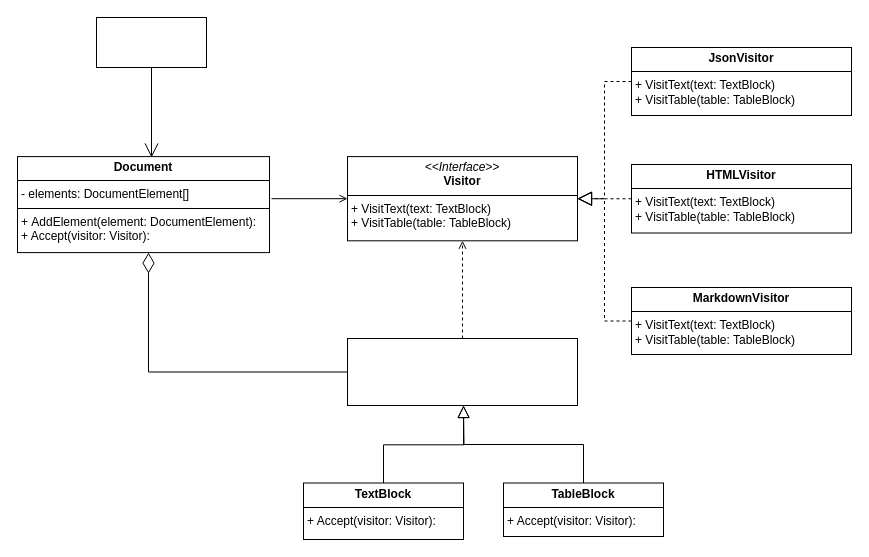
This 869x557 diagram has some shape labels left out. Each missing label, with the centre of its shape:
<<Interface>> DocumentElement + Accept(visitor: Visitor):: the point at 462,372
Client: the point at 151,42
